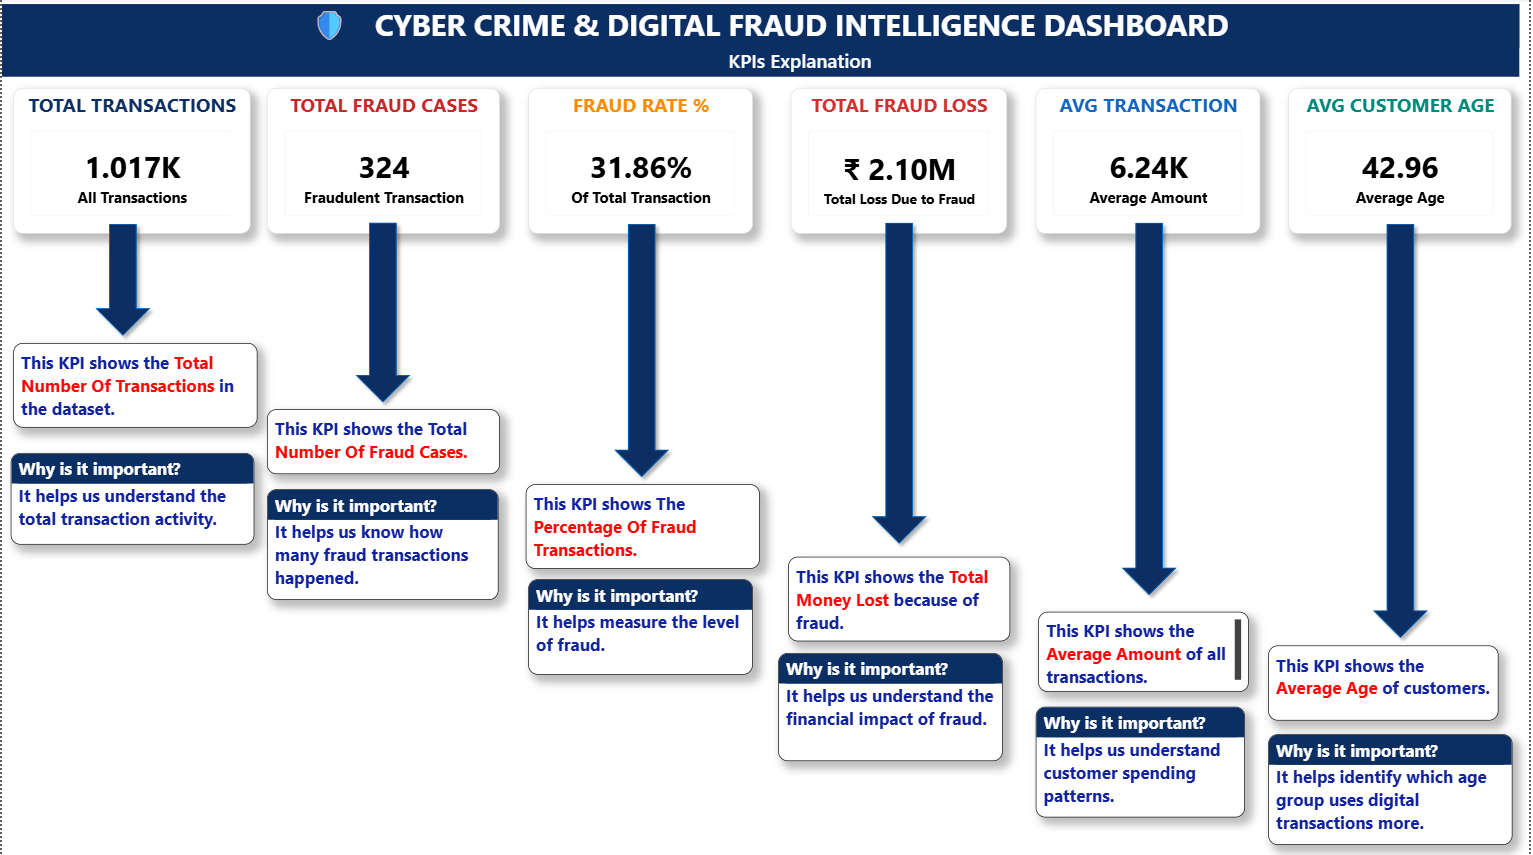

The dashboard page shown, as its layout file describes it:
{"tool":"powerbi","page":{"name":"KPIs Explanation","canvas":[1920,1080],"ordinal":2},"visuals":[{"type":"shape","title":"   🛡️    CYBER CRIME & DIGITAL FRAUD INTELLIGENCE DASHBOARD","box":[0,7.3,1909.1,90.9],"z":0},{"type":"cardVisual","title":"TOTAL TRANSACTIONS","fields":{"Data":["Fact_Fraud.Total Transactions"]},"box":[14,113.4,298.3,183.1],"z":1000},{"type":"cardVisual","title":"TOTAL FRAUD CASES","fields":{"Data":["Fact_Fraud.Total Fraud Cases"]},"box":[333.1,113.4,293,183.1],"z":2000},{"type":"cardVisual","title":"FRAUD RATE %","fields":{"Data":["Fact_Fraud.Fraud Rate %"]},"box":[662.8,113.4,282.6,183.1],"z":3000},{"type":"cardVisual","title":"TOTAL FRAUD LOSS","fields":{"Data":["Fact_Fraud.Total Fraud Loss"]},"box":[992.4,113.4,272.1,183.1],"z":4000},{"type":"cardVisual","title":"AVG TRANSACTION","fields":{"Data":["Fact_Fraud.Average Transaction Amount"]},"box":[1301.2,113.4,282.6,183.1],"z":5000},{"type":"cardVisual","title":"AVG CUSTOMER AGE","fields":{"Data":["Fact_Fraud.Average Customer Age"]},"box":[1618.6,113.4,280.8,183.1],"z":6000},{"type":"shape","box":[108.1,275.6,87.2,158.7],"z":7000},{"type":"shape","box":[436,273.8,87.2,244.2],"z":8000},{"type":"shape","box":[760.5,275.6,87.2,336.6],"z":9000},{"type":"shape","box":[1084.9,273.8,87.2,422.1],"z":10000},{"type":"shape","box":[1398.8,273.8,87.2,486.6],"z":11000},{"type":"shape","box":[1716.3,275.6,87.2,539],"z":12000},{"type":"textbox","box":[14,434.3,307,106.4],"z":13000},{"type":"textbox","title":"Why is it important?","box":[10.3,572.1,306.7,115.4],"z":14000},{"type":"textbox","box":[1302.9,772.7,265.1,101.2],"z":15000},{"type":"textbox","box":[989,702.9,279.1,106.4],"z":16000},{"type":"textbox","box":[659.3,612.2,294.8,106.4],"z":17000},{"type":"textbox","box":[1592.4,814.5,289.5,94.2],"z":18000},{"type":"textbox","box":[333.1,518,293,82],"z":19000},{"type":"textbox","title":"Why is it important?","box":[333.1,617.4,291.3,139.5],"z":20000},{"type":"textbox","title":"Why is it important?","box":[976.7,823.3,282.6,136],"z":21000},{"type":"textbox","title":"Why is it important?","box":[662.8,730.8,282.6,120.3],"z":22000},{"type":"textbox","title":"Why is it important?","box":[1301.2,891.3,263.4,139.5],"z":23000},{"type":"textbox","title":"Why is it important?","box":[1592.4,926.2,307,139.5],"z":24000}]}

Visuals, with their boxes in screenshot pixels (x1, y1, x2, y2), scaled from the page's 1920x1080 canvas onto the 1533x855 screenshot:
"   🛡️    CYBER CRIME & DIGITAL FRAUD INTELLIGENCE DASHBOARD" shape: detection(0, 6, 1524, 78)
"TOTAL TRANSACTIONS" cardVisual: detection(11, 90, 249, 235)
"TOTAL FRAUD CASES" cardVisual: detection(266, 90, 500, 235)
"FRAUD RATE %" cardVisual: detection(529, 90, 755, 235)
"TOTAL FRAUD LOSS" cardVisual: detection(792, 90, 1010, 235)
"AVG TRANSACTION" cardVisual: detection(1039, 90, 1265, 235)
"AVG CUSTOMER AGE" cardVisual: detection(1292, 90, 1517, 235)
shape: detection(86, 218, 156, 344)
shape: detection(348, 217, 418, 410)
shape: detection(607, 218, 677, 485)
shape: detection(866, 217, 936, 551)
shape: detection(1117, 217, 1186, 602)
shape: detection(1370, 218, 1440, 645)
textbox: detection(11, 344, 256, 428)
"Why is it important?" textbox: detection(8, 453, 253, 544)
textbox: detection(1040, 612, 1252, 692)
textbox: detection(790, 556, 1012, 641)
textbox: detection(526, 485, 762, 569)
textbox: detection(1271, 645, 1503, 719)
textbox: detection(266, 410, 500, 475)
"Why is it important?" textbox: detection(266, 489, 499, 599)
"Why is it important?" textbox: detection(780, 652, 1005, 759)
"Why is it important?" textbox: detection(529, 579, 755, 674)
"Why is it important?" textbox: detection(1039, 706, 1249, 816)
"Why is it important?" textbox: detection(1271, 733, 1517, 844)
